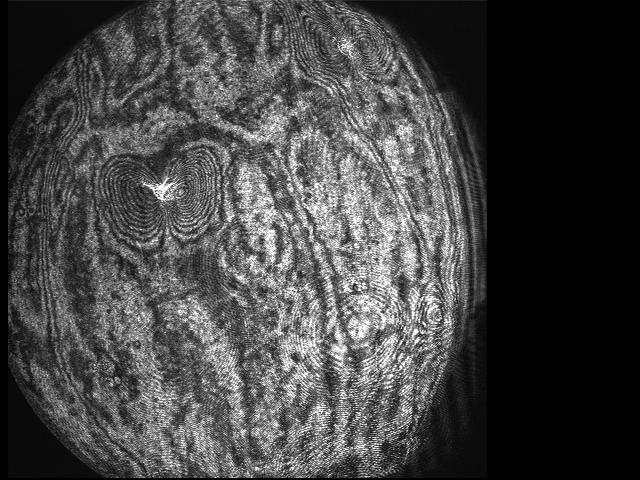plume: (98, 147, 221, 257)
